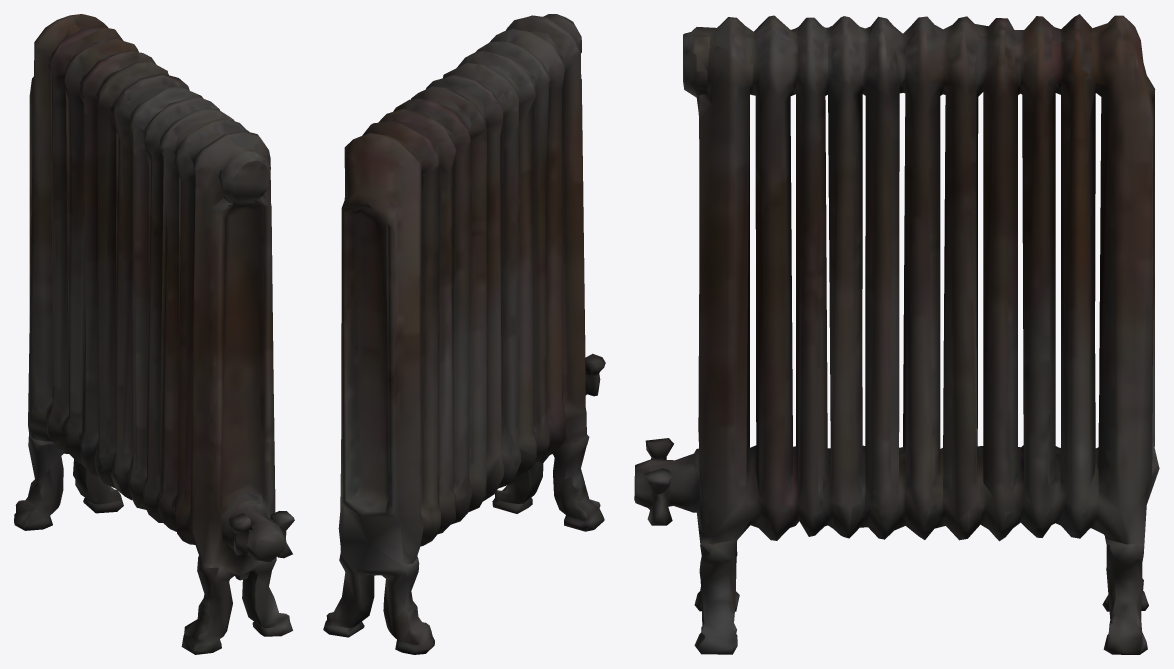
File: plain-iron-radiator-v001.glb
The picture shows the model from 3 angles, left to right: view 1: azimuth 30°, elevation 25°; view 2: azimuth 150°, elevation 25°; view 3: azimuth 270°, elevation 25°; orthographic projection. The views are drawn at different scales.
Visible parts, largest first — view 1: plain-iron-radiator; view 2: plain-iron-radiator; view 3: plain-iron-radiator.
Part boxes in pixels (x1,y1,x2,y2): plain-iron-radiator: [14, 14, 294, 654]; plain-iron-radiator: [323, 14, 605, 654]; plain-iron-radiator: [634, 14, 1159, 654].
Bounding box in the file's own units: 0.1816 × 0.8181 × 0.6422.
Materials: 1 (1 with a texture image).
